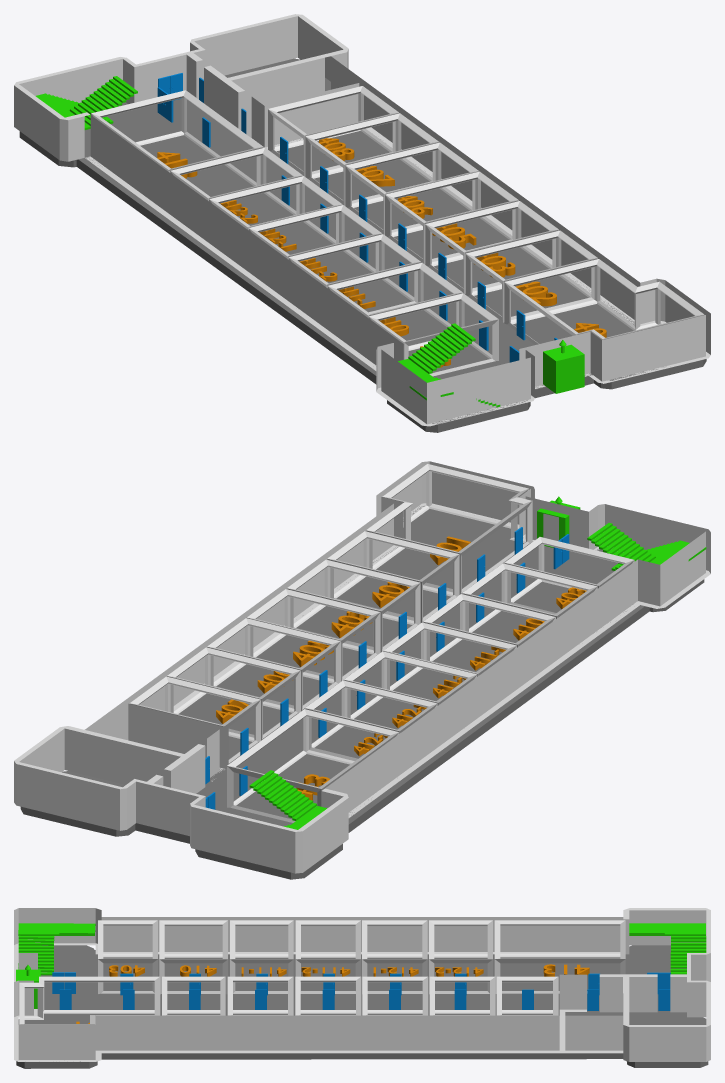
The picture shows the model from 3 angles, top to bottom: view 1: azimuth 30°, elevation 25°; view 2: azimuth 150°, elevation 25°; view 3: azimuth 270°, elevation 25°; orthographic projection. The views are drawn at different scales.
Visible parts, largest first — view 1: Wall.003, Floor.003, B101.002, Elevator1.003, Stair1.015, Stair1.013; view 2: Wall.003, Floor.003, B101.002, Stair1.013, Stair1.015; view 3: Wall.003, Floor.003, B101.002, Stair1.012, Stair1.014, StairFlatFloor2.006, StairFlatFloor2.007, Elevator1.003, Door.038, Text.019, Text.018, Text.021 (+2 smaller).
Boxes of the visible parts, x1,y1,x2,y2 form: Wall.003: [14, 14, 710, 426]; Floor.003: [19, 58, 706, 432]; B101.002: [91, 86, 704, 383]; Elevator1.003: [543, 344, 584, 393]; Stair1.015: [408, 323, 475, 373]; Stair1.013: [70, 76, 137, 125]; Wall.003: [14, 461, 710, 873]; Floor.003: [20, 506, 704, 879]; B101.002: [129, 464, 634, 822]; Stair1.013: [249, 770, 316, 820]; Stair1.015: [587, 523, 655, 565]; Wall.003: [14, 908, 710, 1061]; Floor.003: [16, 945, 708, 1068]; B101.002: [19, 920, 625, 1024]; Stair1.012: [670, 936, 706, 974]; Stair1.014: [18, 935, 54, 975]; StairFlatFloor2.006: [629, 923, 705, 935]; StairFlatFloor2.007: [18, 923, 95, 935]; Elevator1.003: [16, 969, 40, 1008]; Door.038: [52, 972, 75, 993]; Text.019: [543, 964, 589, 976]; Text.018: [109, 965, 144, 976]; Text.021: [435, 967, 483, 976].
Size of the model in its own units: 1.02 by 0.1973 by 2.52.
